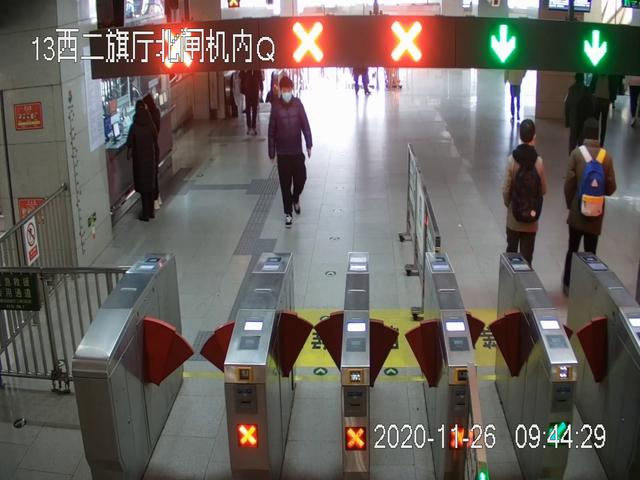person: (562, 121, 616, 294), (501, 120, 550, 306), (267, 79, 313, 229), (126, 98, 163, 221)
